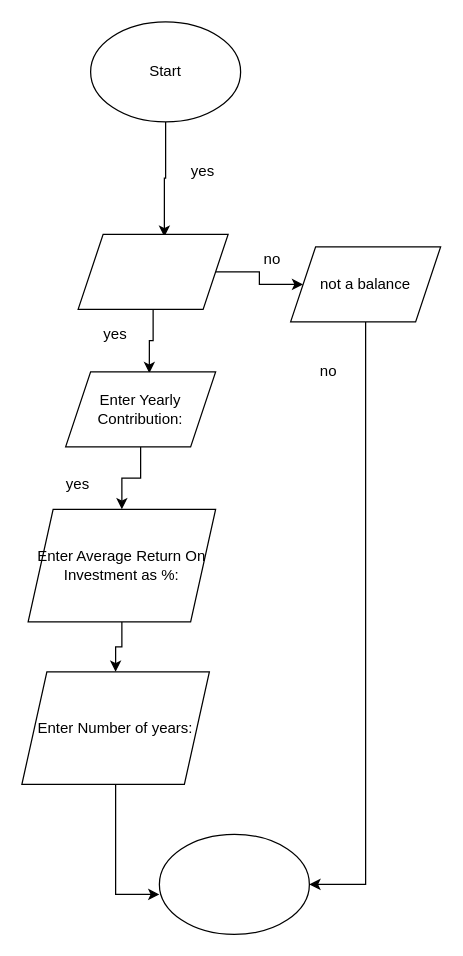
This 463x956 diagram has some shape labels left out. The shapes that lost their labels are listed below. From the top down, each one's centre as x and y in pixels, then its label:
At point (152, 271): "Enter Starting Balance:".
At point (233, 883): "end".
